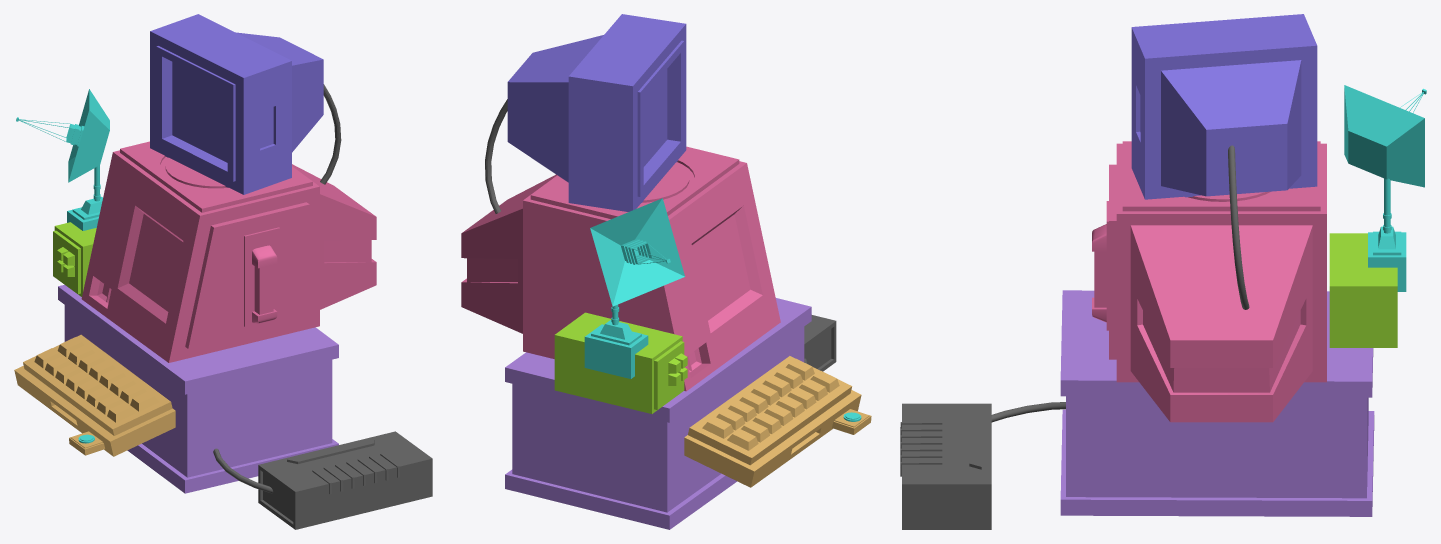
Rendered from Ordenata.fbx.
3 renders of one model, left to right at view 1: azimuth 30°, elevation 25°; view 2: azimuth 150°, elevation 25°; view 3: azimuth 270°, elevation 25°, orthographic. The views are drawn at different scales.
Parts seen in each view (by area): view 1: Máquina.003, Máquina.005, Máquina.004, Máquina.006, Máquina.007, Máquina.010, Máquina.002; view 2: Máquina.003, Máquina.005, Máquina.004, Máquina.007, Máquina.010, Máquina.002, Máquina.006; view 3: Máquina.003, Máquina.005, Máquina.004, Máquina.006, Máquina.010, Máquina.002.
Boxes of the visible parts, left/top/right/bottom form: Máquina.003: left=81, top=141, right=376, bottom=362; Máquina.005: left=58, top=284, right=338, bottom=493; Máquina.004: left=150, top=14, right=323, bottom=194; Máquina.006: left=213, top=84, right=432, bottom=529; Máquina.007: left=14, top=334, right=175, bottom=456; Máquina.010: left=16, top=89, right=109, bottom=443; Máquina.002: left=53, top=222, right=96, bottom=296; Máquina.003: left=461, top=146, right=780, bottom=391; Máquina.005: left=505, top=298, right=811, bottom=529; Máquina.004: left=507, top=14, right=686, bottom=211; Máquina.007: left=684, top=356, right=871, bottom=487; Máquina.010: left=584, top=198, right=861, bottom=421; Máquina.002: left=554, top=312, right=687, bottom=413; Máquina.006: left=485, top=99, right=836, bottom=371; Máquina.003: left=1092, top=141, right=1326, bottom=422; Máquina.005: left=1060, top=290, right=1374, bottom=516; Máquina.004: left=1131, top=14, right=1317, bottom=199; Máquina.006: left=900, top=145, right=1249, bottom=529; Máquina.010: left=1344, top=85, right=1426, bottom=291; Máquina.002: left=1329, top=233, right=1397, bottom=347.
Size of the model in its own units: 100 by 114 by 121.
